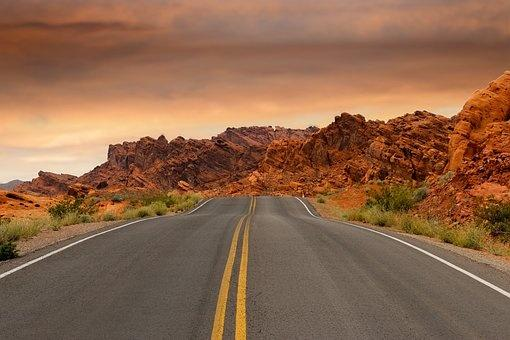road: (246, 197, 509, 338), (0, 197, 249, 338)
